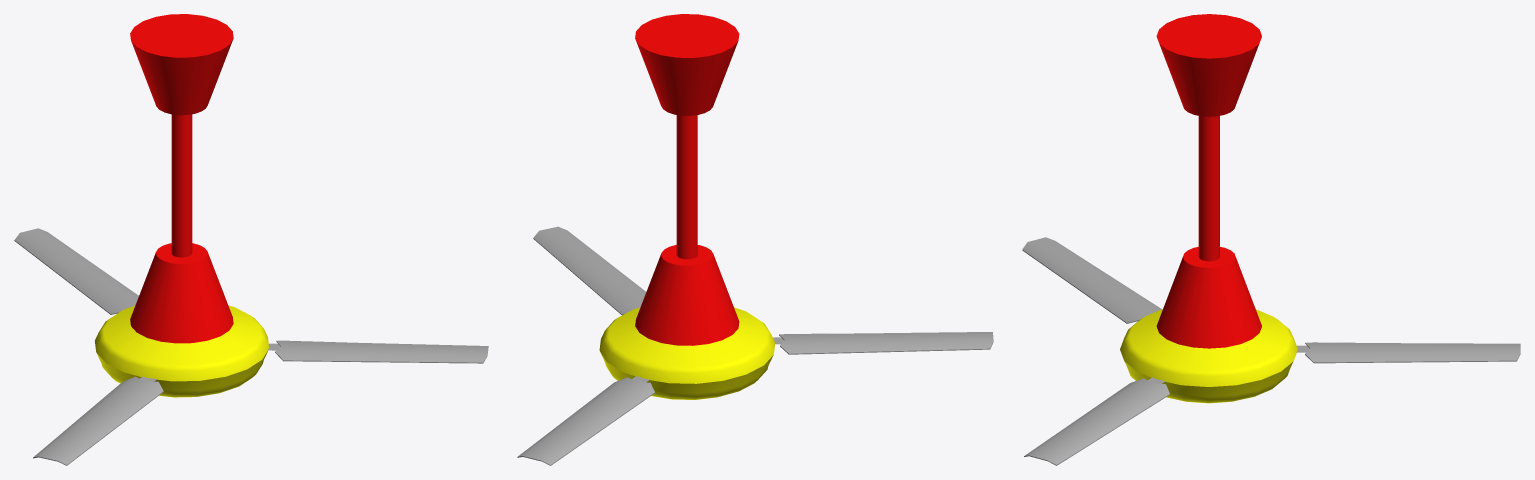
The model's file is ceilingfan.fbx.
The picture shows the model from 3 angles, left to right: view 1: azimuth 30°, elevation 25°; view 2: azimuth 150°, elevation 25°; view 3: azimuth 270°, elevation 25°; orthographic projection.
Visible parts, largest first — view 1: pCone4; view 2: pCone4; view 3: pCone4.
Boxes of the visible parts, bbox=[...] form: pCone4: bbox=[14, 14, 488, 465]; pCone4: bbox=[517, 14, 993, 465]; pCone4: bbox=[1022, 14, 1520, 465].
Size of the model in its own units: 2.02 by 1.42 by 1.9.
